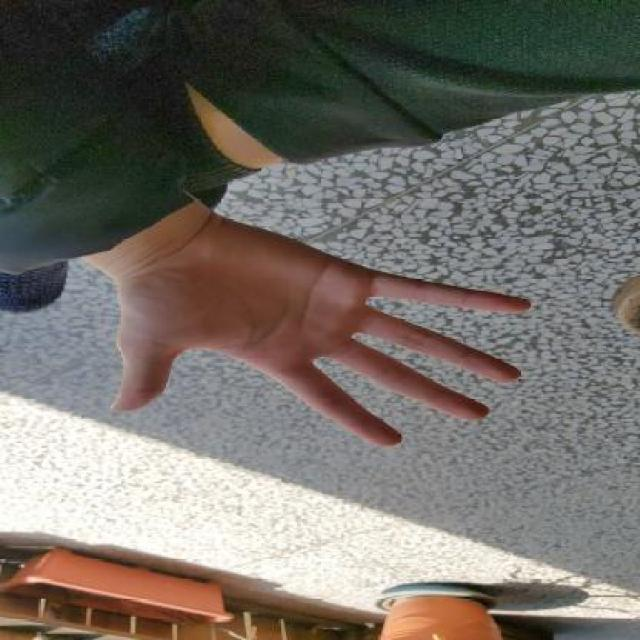bare_hand: (90, 207, 558, 463)
